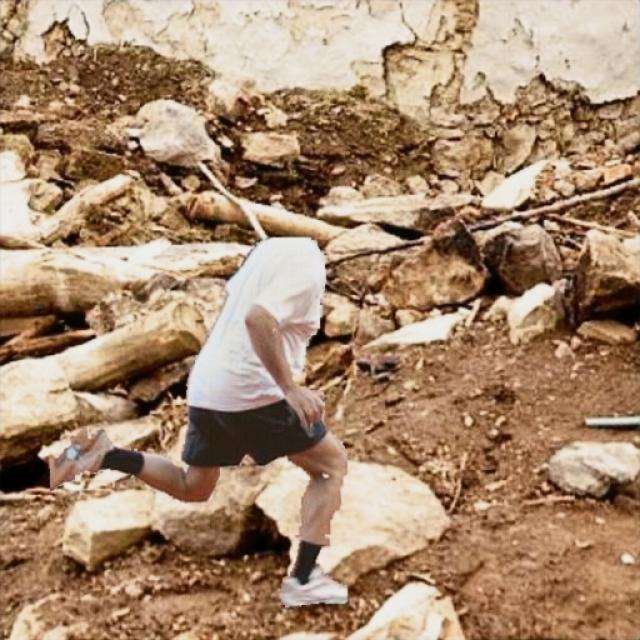Person in Rubble: (48, 238, 346, 608)
